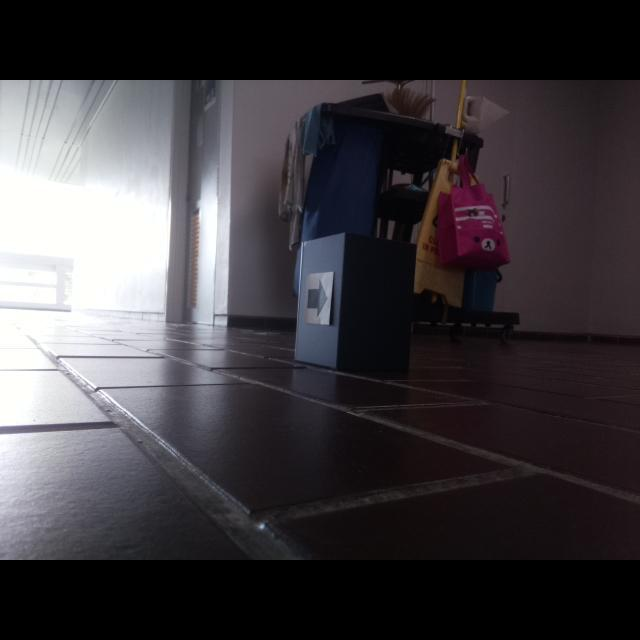RIGHT: (307, 278, 328, 319)
